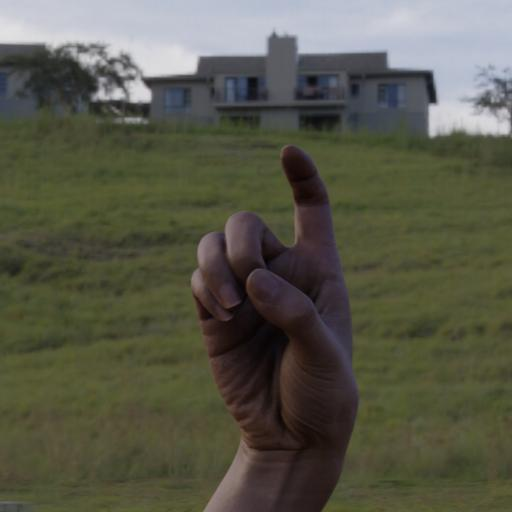X: (188, 142, 364, 449)
